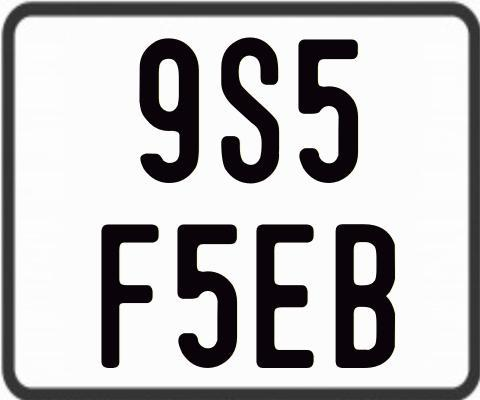5: (295, 36, 360, 185), (176, 224, 238, 373)
9: (139, 35, 203, 184)
B: (333, 221, 398, 368)
E: (255, 222, 314, 366)
F: (101, 223, 162, 368)
S: (218, 34, 281, 183)
